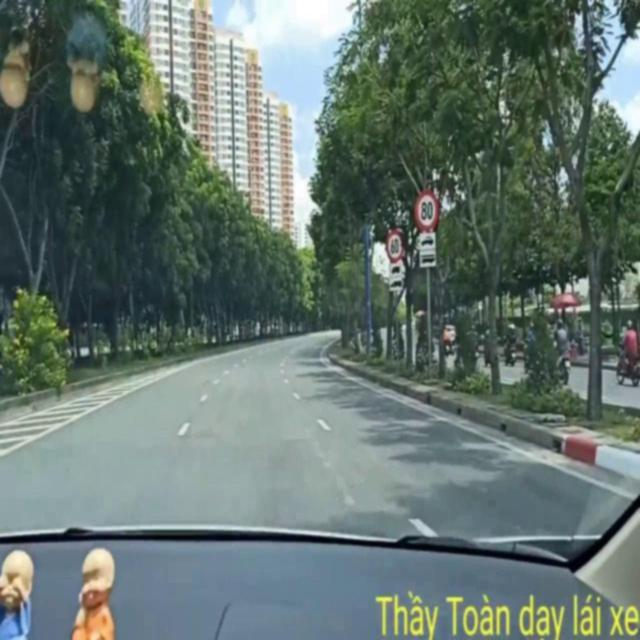Biển phụ: (417, 228, 438, 265), (387, 261, 404, 291)
Giới hạn tốc độ: 60Km/h: (384, 224, 407, 257)
Giới hạn tốc độ: 80Km/h: (415, 186, 439, 228)
